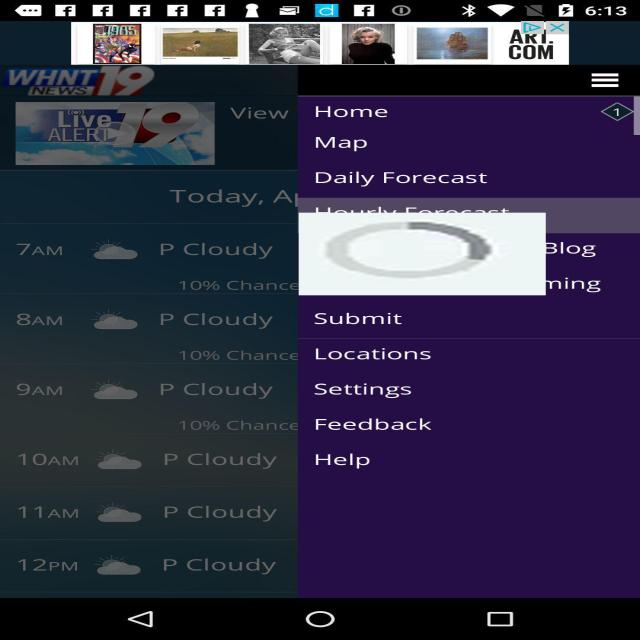misdirection: (298, 213, 546, 295)
